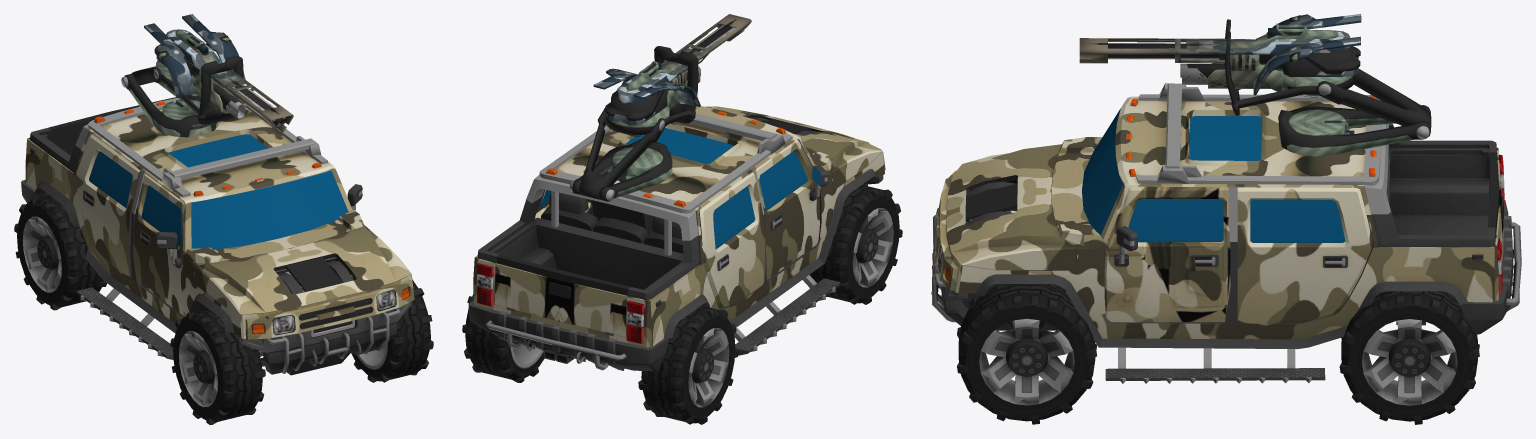
The model's file is Car35.fbx.
3 renders of one model, left to right at view 1: azimuth 30°, elevation 25°; view 2: azimuth 150°, elevation 25°; view 3: azimuth 270°, elevation 25°, orthographic. The views are drawn at different scales.
Parts seen in each view (by area): view 1: Body, Roof, Turret, Hood, Front_Glass_, Tire_3, BumperF, Offroad_1_Door_RL, Tire_2, Door, Tire_1, Metal_2 (+9 smaller); view 2: Body, Turret, Roof, Trunk, BumperB, Tire_2, Offroad_1_Door_RL, Tire_3, Door, Offroad_Dashboard, Hood, Tire (+9 smaller); view 3: Body, Turret, Roof, Offroad_1_Door_RL_1, Hood, Door__1_, Tire_1, Tire, Metal_1, Metal, Offroad_1_Window_RL_Glass__1, Side_Glass__1 (+8 smaller).
Boxes of the visible parts, bbox=[...] form: Body: bbox=[25, 97, 414, 375]; Roof: bbox=[75, 98, 352, 251]; Turret: bbox=[121, 14, 293, 137]; Hood: bbox=[194, 225, 411, 314]; Front_Glass_: bbox=[191, 170, 348, 249]; Tire_3: bbox=[170, 309, 265, 424]; BumperF: bbox=[239, 301, 411, 374]; Offroad_1_Door_RL: bbox=[76, 134, 140, 278]; Tire_2: bbox=[14, 195, 106, 310]; Door: bbox=[133, 174, 183, 315]; Tire_1: bbox=[352, 279, 433, 382]; Metal_2: bbox=[22, 216, 61, 292]; Body: bbox=[473, 109, 885, 347]; Turret: bbox=[569, 14, 751, 201]; Roof: bbox=[526, 102, 814, 255]; Trunk: bbox=[495, 254, 630, 336]; BumperB: bbox=[468, 301, 669, 371]; Tire_2: bbox=[638, 305, 738, 424]; Offroad_1_Door_RL: bbox=[699, 172, 765, 308]; Tire_3: bbox=[809, 185, 902, 304]; Door: bbox=[756, 140, 819, 279]; Offroad_Dashboard: bbox=[541, 192, 718, 306]; Hood: bbox=[705, 106, 882, 190]; Tire: bbox=[462, 294, 544, 382]; Body: bbox=[935, 125, 1503, 349]; Turret: bbox=[1079, 14, 1431, 156]; Roof: bbox=[1100, 94, 1392, 241]; Offroad_1_Door_RL_1: bbox=[1237, 187, 1372, 323]; Hood: bbox=[946, 144, 1076, 270]; Door__1_: bbox=[1104, 186, 1230, 322]; Tire_1: bbox=[957, 284, 1096, 424]; Tire: bbox=[1339, 291, 1479, 424]; Metal_1: bbox=[979, 318, 1074, 405]; Metal: bbox=[1362, 319, 1457, 405]; Offroad_1_Window_RL_Glass__1: bbox=[1250, 200, 1345, 242]; Side_Glass__1: bbox=[1128, 199, 1223, 242].
Size of the model in its own units: 367 by 445 by 700.
